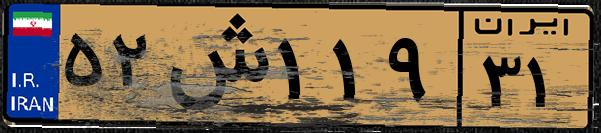1: (270, 28, 330, 110), (330, 28, 385, 110), (525, 38, 570, 115)
2: (110, 28, 158, 98)
3: (475, 38, 525, 113)
5: (57, 26, 110, 100)
9: (385, 28, 445, 110)
ش: (158, 12, 270, 120)
